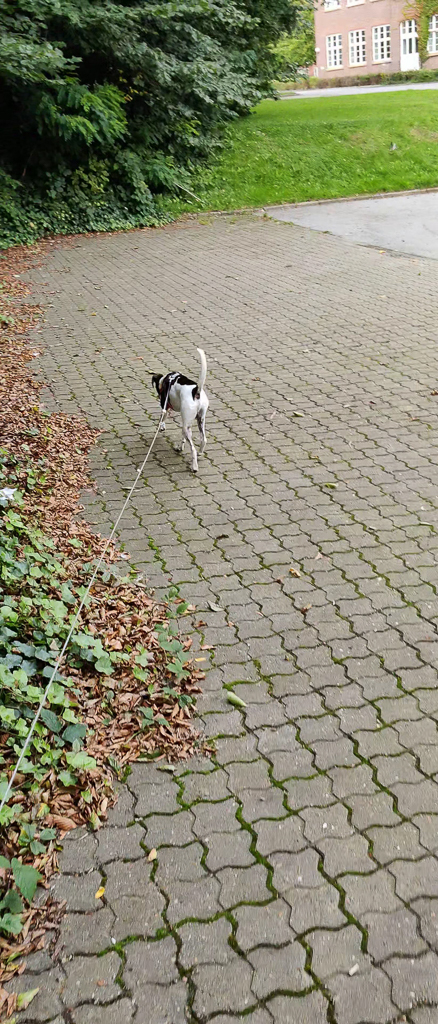Dog: (140, 340, 223, 484)
